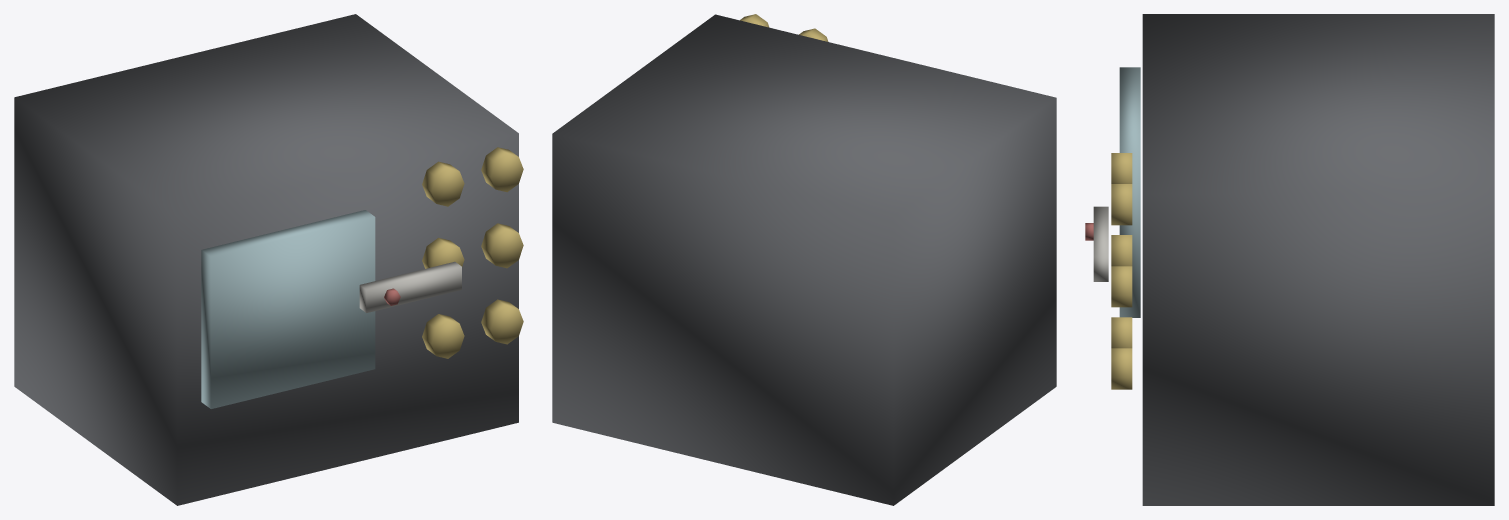
Rendered from oscilloscope__compact.glb.
3 views of the same model, side by side, from view 1: azimuth 30°, elevation 25°; view 2: azimuth 150°, elevation 25°; view 3: azimuth 270°, elevation 25° (orthographic). The views are drawn at different scales.
Visible parts, largest first — view 1: world; view 2: world; view 3: world.
Part boxes in pixels (x1,y1,x2,y2): world: (14, 14, 523, 505); world: (552, 14, 1056, 505); world: (1085, 14, 1494, 505).
Size of the model in its own units: 0.4368 by 0.3534 by 0.4201.
